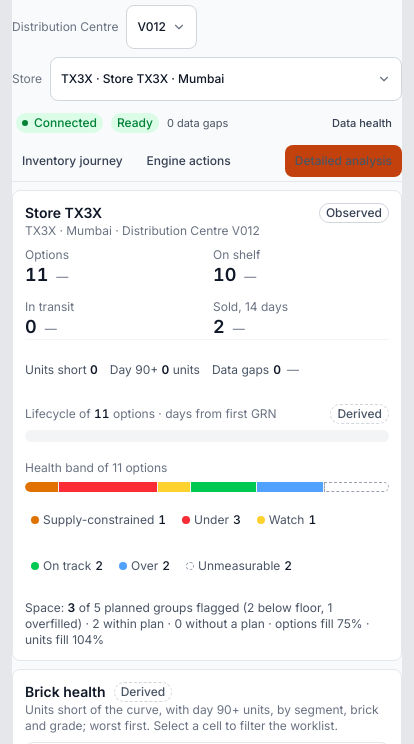
Scenario: store workspace health (S2-R11) › filters the worklist by band from the band mix
Click the button with test id "band-seg-under": [211, 520] box top-left (176, 498), bottom-right (247, 542)
(page scrolled)
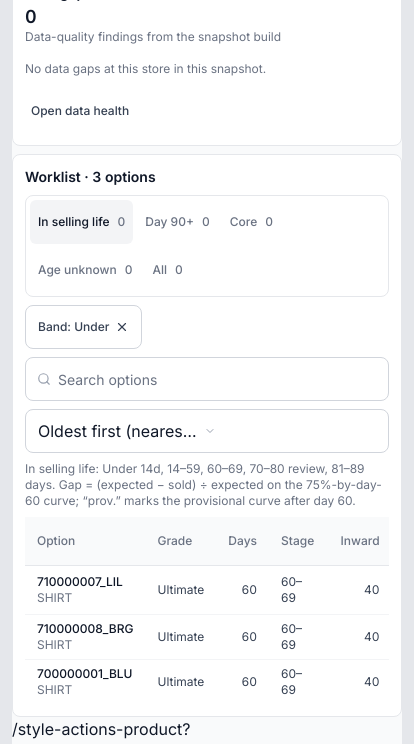
Now the button with test id "worklist-band-filter" reads "Band: Under", box top-left (25, 305), bottom-right (142, 349)
